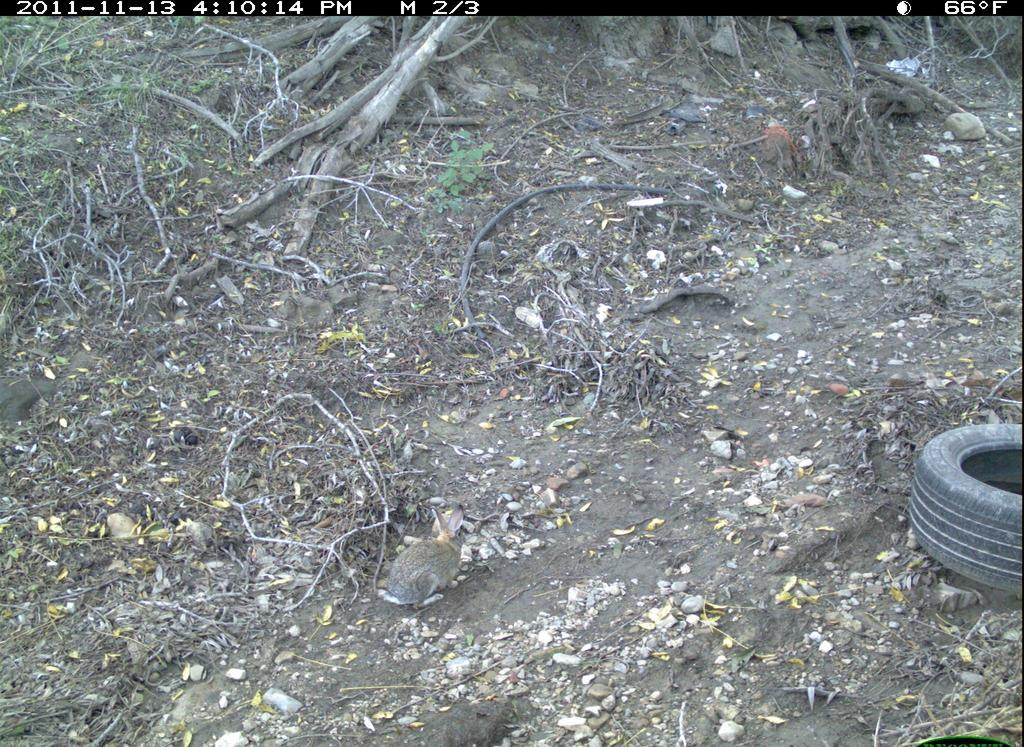rabbit: (366, 505, 485, 613)
